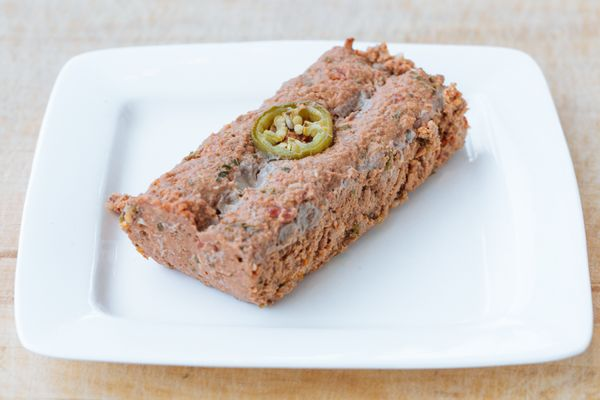curry: (26, 0, 595, 386)
sushi: (107, 36, 469, 308)
